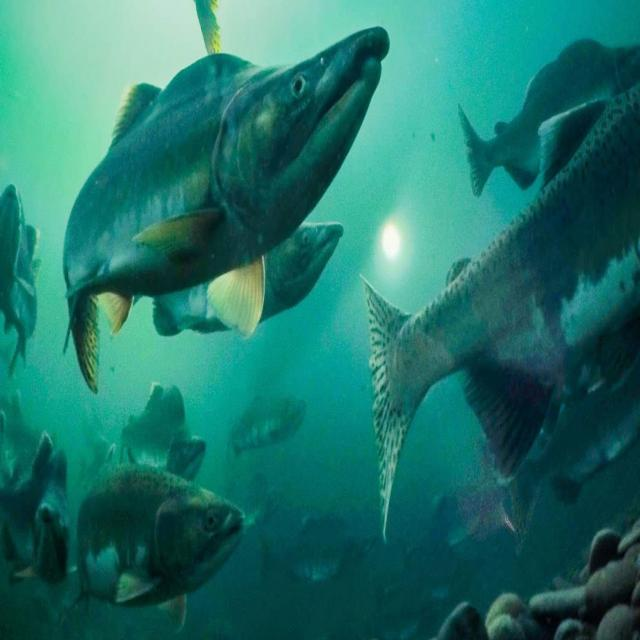salmon: (45, 35, 398, 407), (63, 442, 250, 620)
